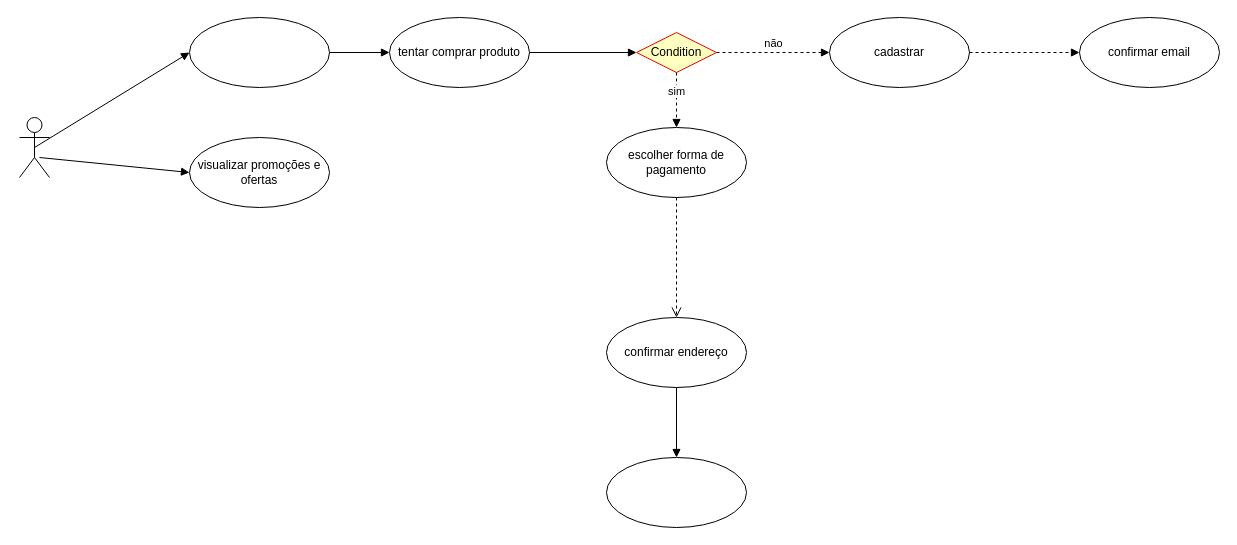
This 1237x545 diagram has some shape labels left out. Each missing label, with the centre of its shape:
cliente: the point at 34,147
efetuar compra: the point at 676,492
visualizar produtos: the point at 259,52
